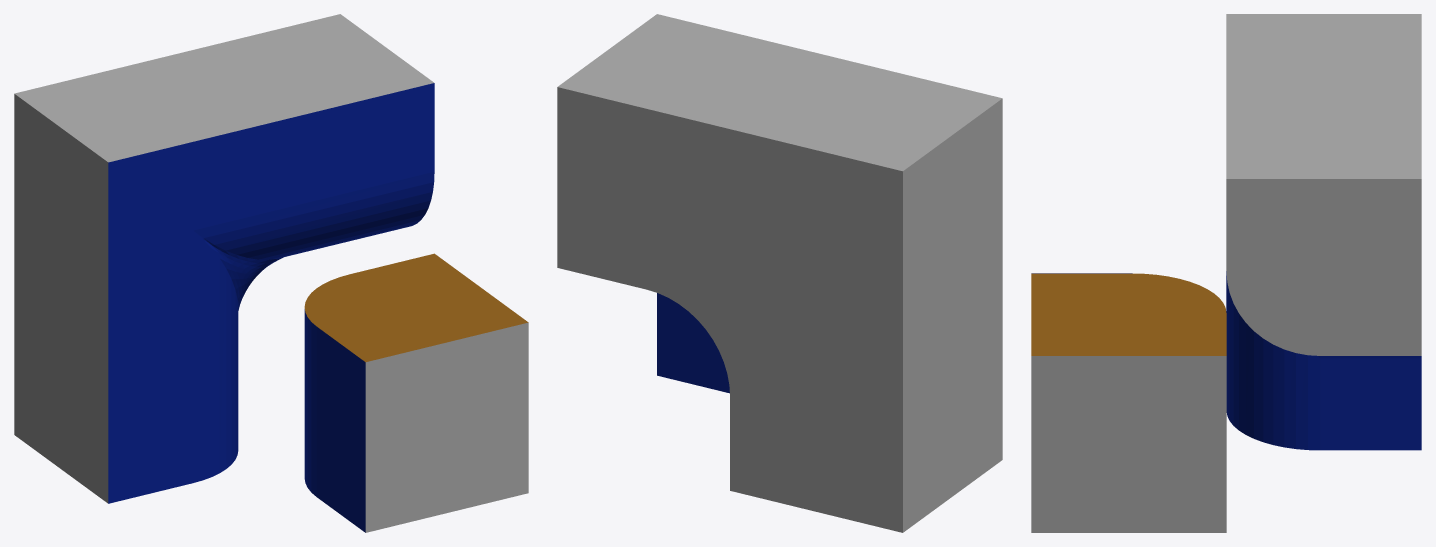
Rendered from case_53.fbx.
The picture shows the model from 3 angles, left to right: view 1: azimuth 30°, elevation 25°; view 2: azimuth 150°, elevation 25°; view 3: azimuth 270°, elevation 25°; orthographic projection. The views are drawn at different scales.
Visible parts, largest first — view 1: case_53; view 2: case_53; view 3: case_53.
Part boxes in pixels (x1,y1,x2,y2): case_53: [14, 14, 528, 532]; case_53: [557, 14, 1002, 532]; case_53: [1031, 14, 1421, 532].
Size of the model in its own units: 1 by 1 by 1.
